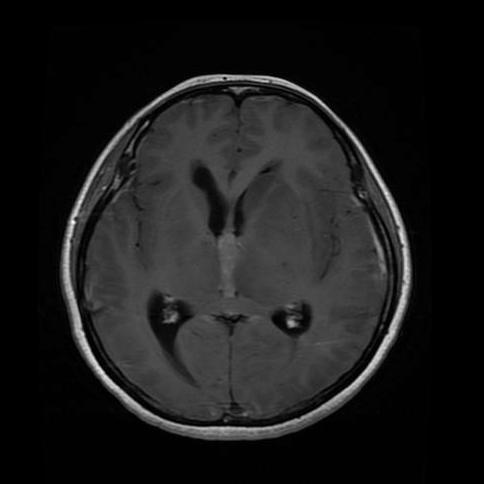Tumour-Glioma: (313, 157, 385, 262)
